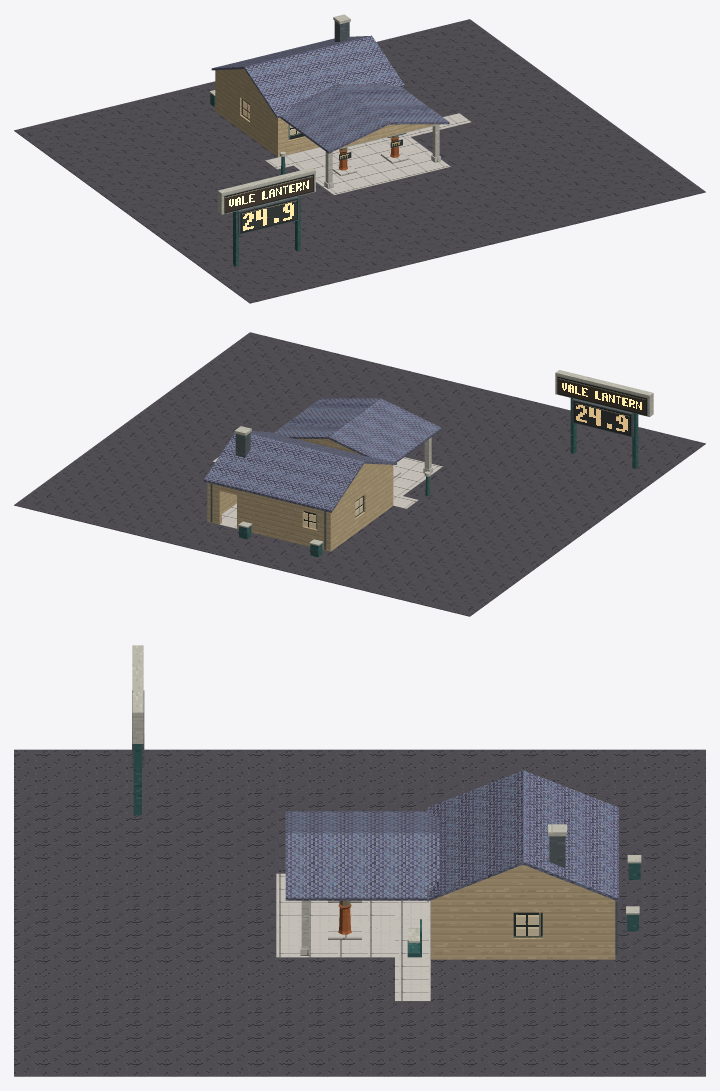
File: vale-lantern-1925-far.glb
3 renders of one model, top to bottom at view 1: azimuth 30°, elevation 25°; view 2: azimuth 150°, elevation 25°; view 3: azimuth 270°, elevation 25°, orthographic. The views are drawn at different scales.
Visible parts, largest first — view 1: lot, shell, roadside_sign, sign_name_street, price_face_street, fuel_canopy; view 2: lot, shell, roadside_sign, sign_name_exit, price_face_exit; view 3: lot, shell, roadside_sign, pump_2.
Boxes of the visible parts, x1,y1,x2,y2 form: lot: (14, 19, 705, 303); shell: (211, 14, 449, 156); roadside_sign: (217, 167, 315, 266); sign_name_street: (224, 174, 314, 213); price_face_street: (240, 198, 297, 233); fuel_canopy: (324, 124, 440, 188); lot: (14, 332, 705, 616); shell: (203, 398, 441, 551); roadside_sign: (555, 370, 653, 468); sign_name_exit: (557, 376, 647, 415); price_face_exit: (573, 401, 630, 435); lot: (14, 749, 705, 1076); shell: (285, 770, 618, 959); roadside_sign: (132, 645, 144, 815); pump_2: (328, 900, 361, 939).
Bounding box in the file's own units: 31.45 × 5.42 × 28.2.
Materials: 12 (12 with a texture image).
